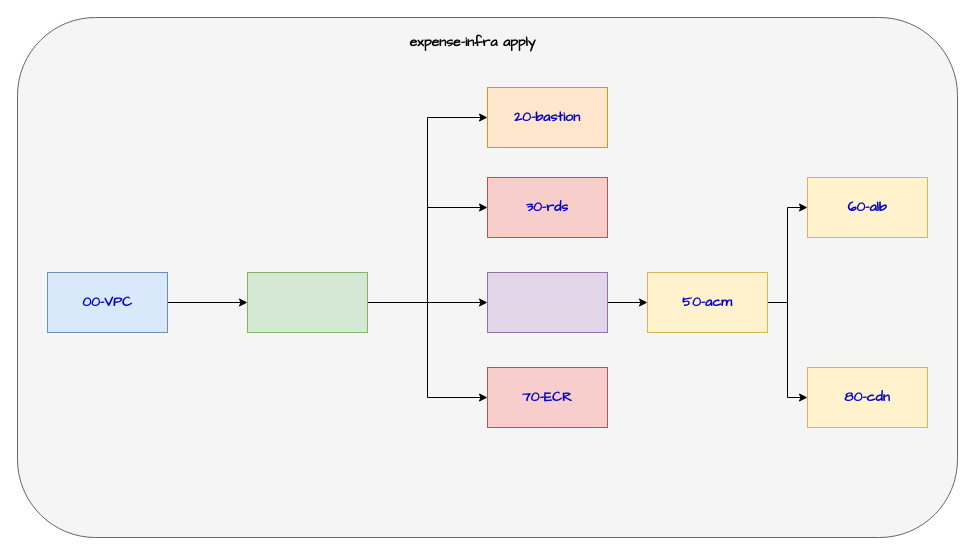
The diagram is 975 pixels wide and 555 high, and some of its shapes have lost their labels. The shapes that lost their labels are listed below. From the top down, each one's centre as x and y in pixels, then its label:
At (x=307, y=302): "10-SG".
At (x=547, y=302): "40-eks".
